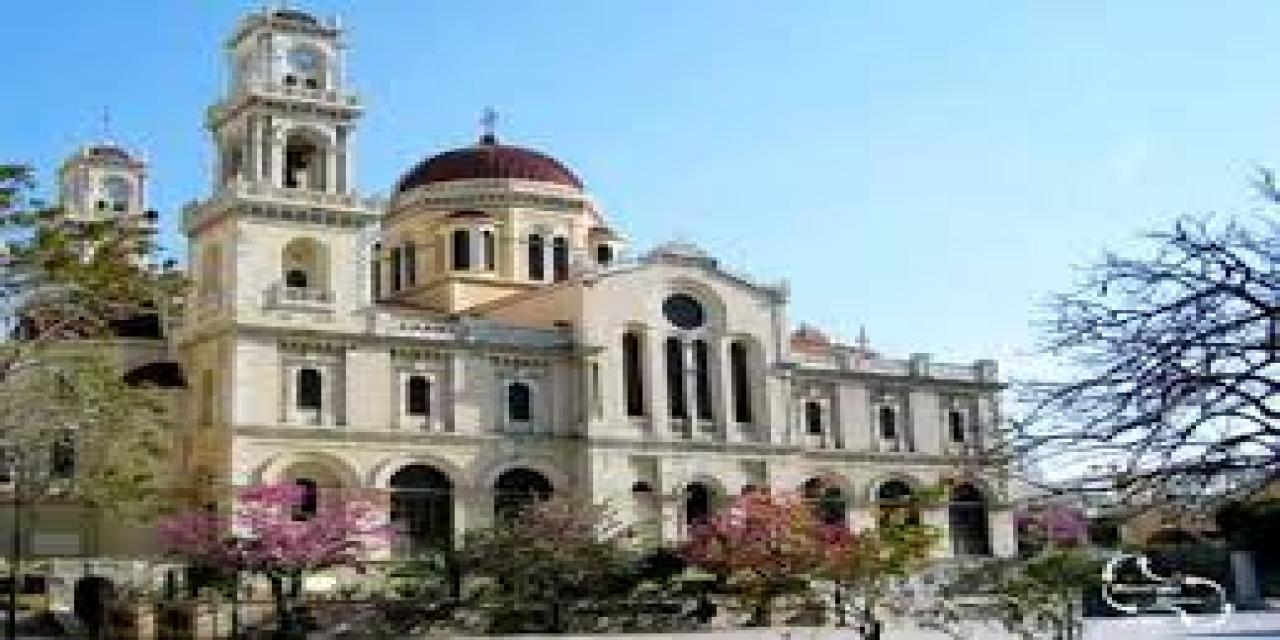Agios Minas: (4, 3, 1030, 591)
